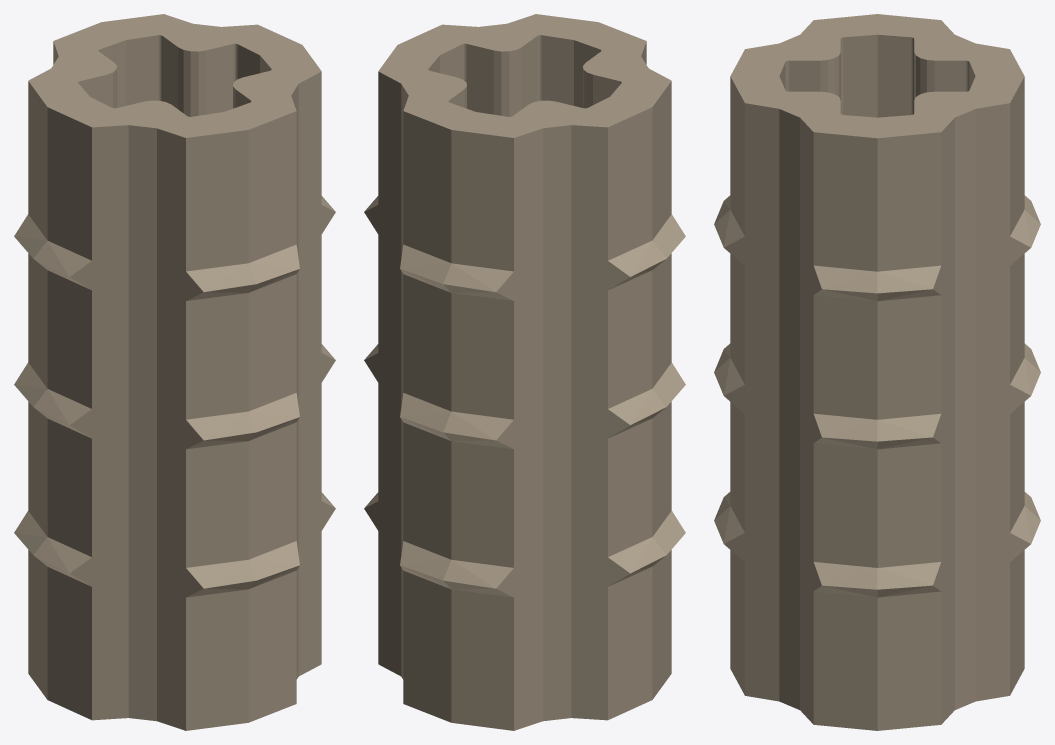
File: Sand_4207456_AVV.fbx
The picture shows the model from 3 angles, left to right: view 1: azimuth 30°, elevation 25°; view 2: azimuth 150°, elevation 25°; view 3: azimuth 270°, elevation 25°; orthographic projection.
Parts seen in each view (by area): view 1: Sand_4207456_AVV; view 2: Sand_4207456_AVV; view 3: Sand_4207456_AVV.
Boxes of the visible parts, x1,y1,x2,y2 form: Sand_4207456_AVV: (14, 14, 335, 730); Sand_4207456_AVV: (364, 14, 685, 730); Sand_4207456_AVV: (714, 14, 1040, 730).
Size of the model in its own units: 0.8 by 1.6 by 0.8.
